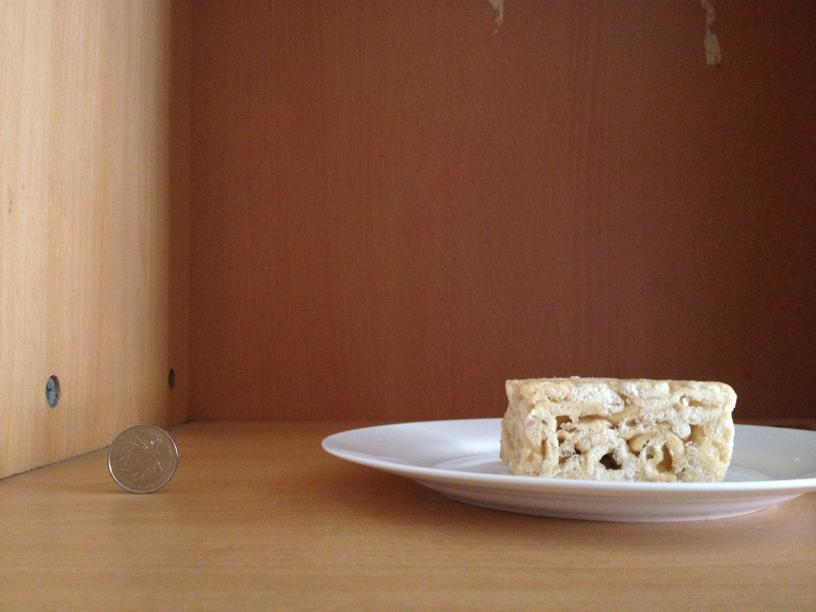coin: (106, 424, 181, 494)
sachima: (490, 371, 737, 488)
